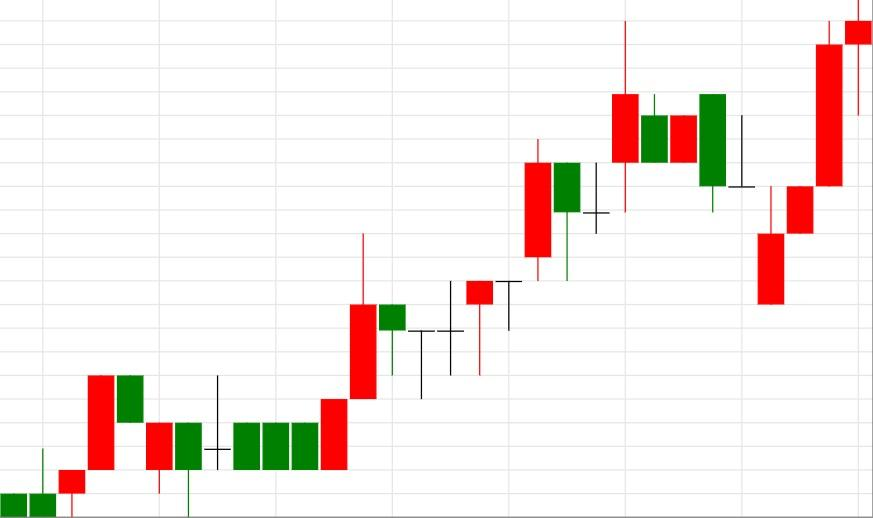bullish_engulfing_rise: (86, 374, 349, 518)
three_white_soldiers_rise: (612, 20, 844, 306)
